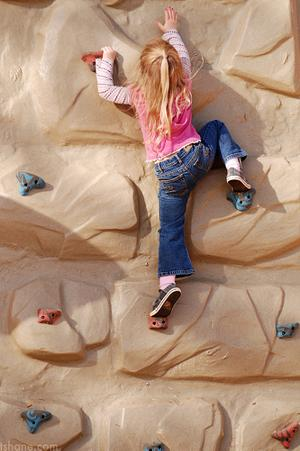person: (95, 8, 252, 316)
